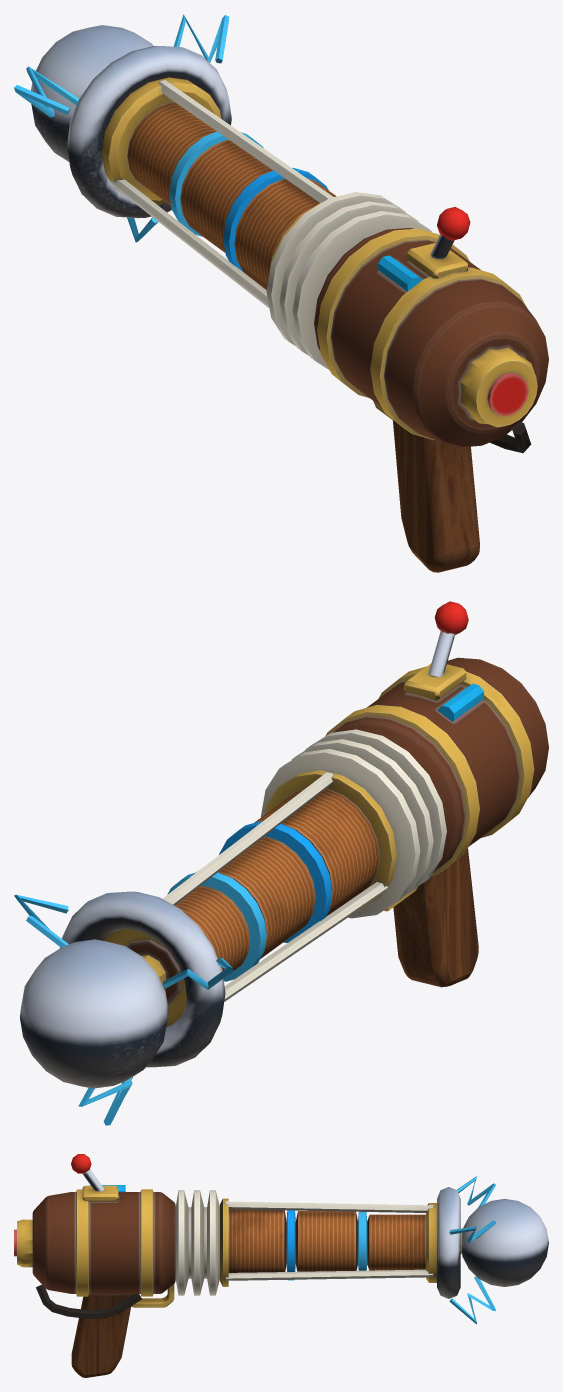
File: tesla.glb
3 views of the same model, one above another, from view 1: azimuth 30°, elevation 25°; view 2: azimuth 150°, elevation 25°; view 3: azimuth 270°, elevation 25° (orthographic). The views are drawn at different scales.
Visible parts, largest first — view 1: tesla; view 2: tesla; view 3: tesla.
Part boxes in pixels (x1,y1,x2,y2): tesla: (14, 14, 548, 572); tesla: (14, 601, 548, 1125); tesla: (14, 1154, 548, 1377).
Bounding box in the file's own units: 0.2097 × 0.3365 × 0.748.
10 materials, 10 textured.
